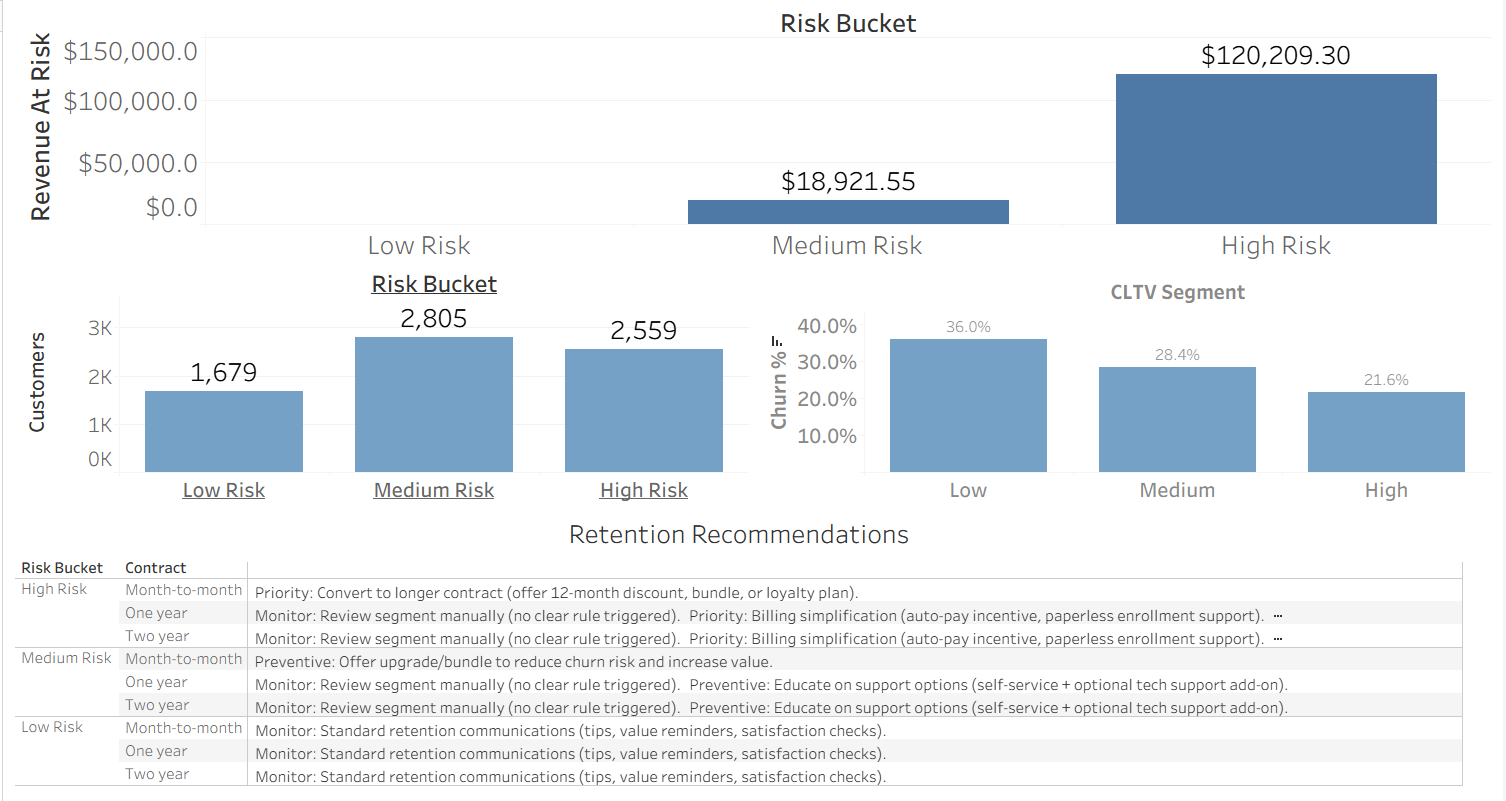

What the dashboard file says about the page in this screenshot:
{"tool":"tableau","page":{"name":"Risk & Retention Recommendations ","canvas":[1000,1000],"units":"permille","ordinal":3},"visuals":[{"type":"worksheet","title":"Revenue at Risk By Bucket","mark":"Automatic","rows":["RevenueAtRisk"],"cols":["RiskBucket"],"box":[5.3,10,989.3,322.9]},{"type":"worksheet","title":"Risk Bucket Distribution ","mark":"Automatic","rows":["Calculation_1254832772141061"],"cols":["RiskBucket"],"box":[5.3,332.9,494.7,300.5]},{"type":"worksheet","title":"CLTV Segment Vs Churn","mark":"Automatic","rows":["ChurnFlag"],"cols":["CLTV_Segment"],"box":[500,332.9,494.7,300.5]},{"type":"worksheet","title":"Retention Recommendations","mark":"Automatic","rows":["RiskBucket","Contract"],"box":[5.3,633.4,989.3,351.6]}]}

Visuals, with their boxes on the dashboard's canvas, which has no fixed pixel size, in thousandths of its width and height (x1, y1, x2, y2). These are canvas units, not pixel positions in the 1506x801 screenshot, which may show the page scaled, cropped or inside an application window:
"Revenue at Risk By Bucket" worksheet: 5 10 995 333
"Risk Bucket Distribution " worksheet: 5 333 500 633
"CLTV Segment Vs Churn" worksheet: 500 333 995 633
"Retention Recommendations" worksheet: 5 633 995 985
